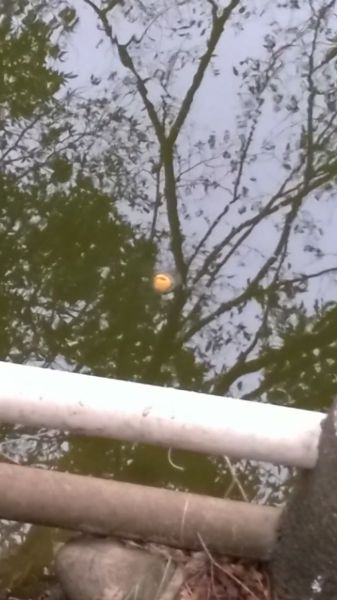eggs: (149, 267, 174, 294)
